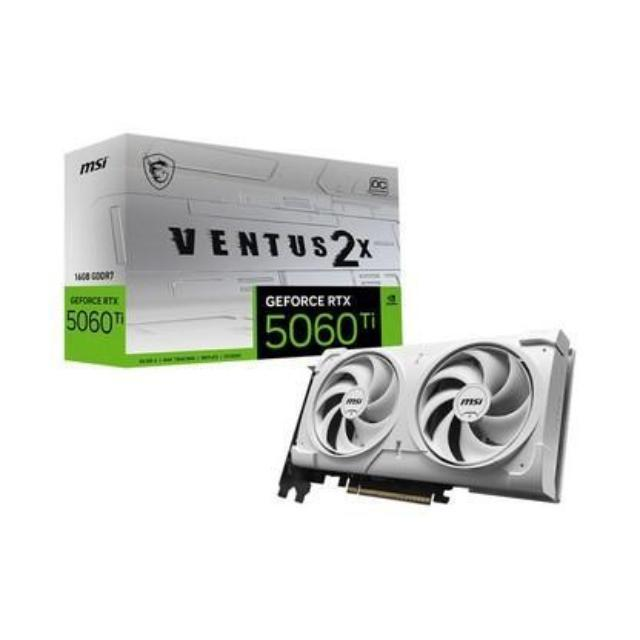GPU: (283, 328, 577, 512)
